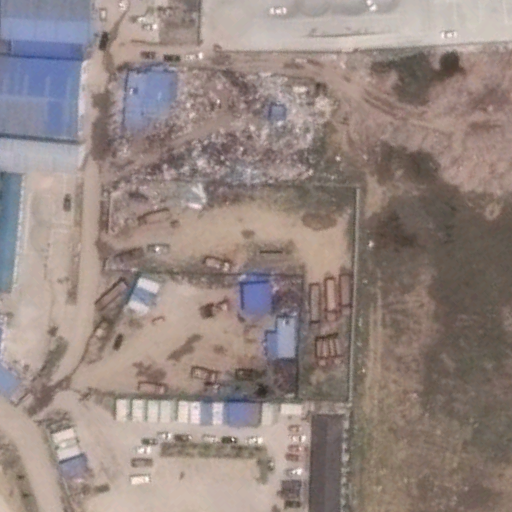msw: (176, 65, 323, 181)
